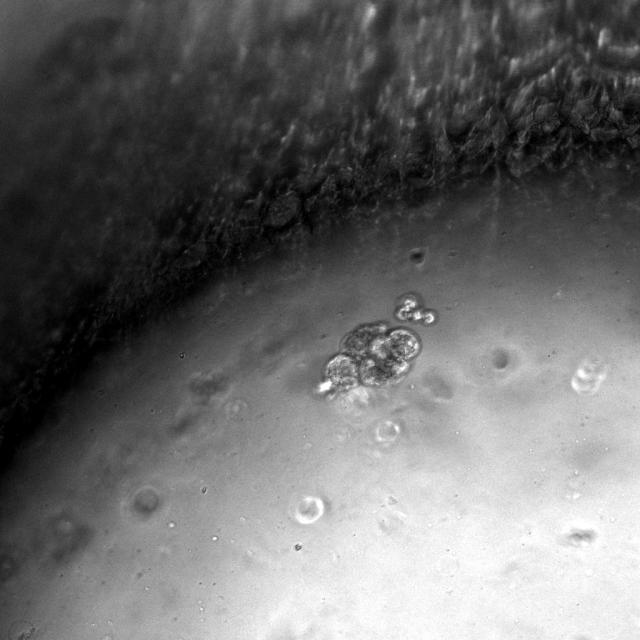organoid: (318, 322, 421, 393), (394, 292, 438, 326), (134, 487, 159, 514), (563, 527, 595, 545), (493, 349, 509, 369), (410, 247, 426, 264), (294, 544, 302, 551)
